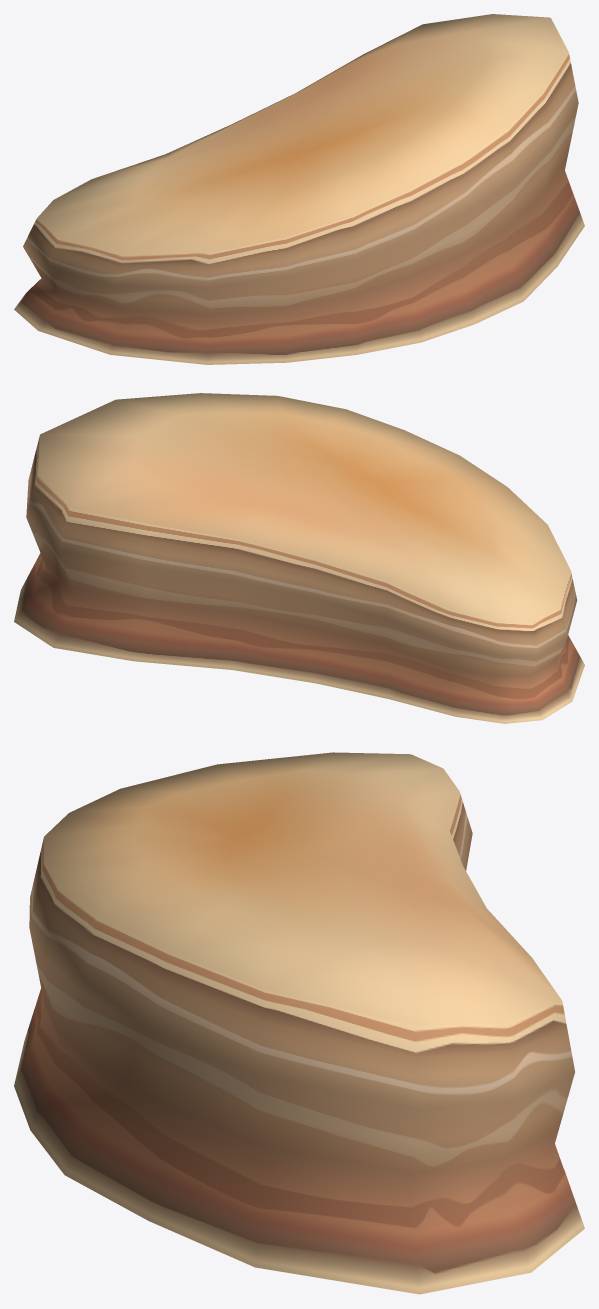
File: Mount_Big_01.FBX
3 renders of one model, top to bottom at view 1: azimuth 30°, elevation 25°; view 2: azimuth 150°, elevation 25°; view 3: azimuth 270°, elevation 25°, orthographic. The views are drawn at different scales.
Visible parts, largest first — view 1: Mount_Big_01; view 2: Mount_Big_01; view 3: Mount_Big_01.
Part boxes in pixels (bbox=[...]): Mount_Big_01: bbox=[14, 14, 584, 364]; Mount_Big_01: bbox=[14, 393, 584, 723]; Mount_Big_01: bbox=[14, 752, 584, 1294].
Bounding box in the file's own units: 54.49 × 17.01 × 31.72.
